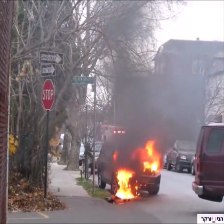fire_h: (132, 139, 160, 173), (114, 168, 136, 199)
fire_l: (112, 149, 118, 162)
